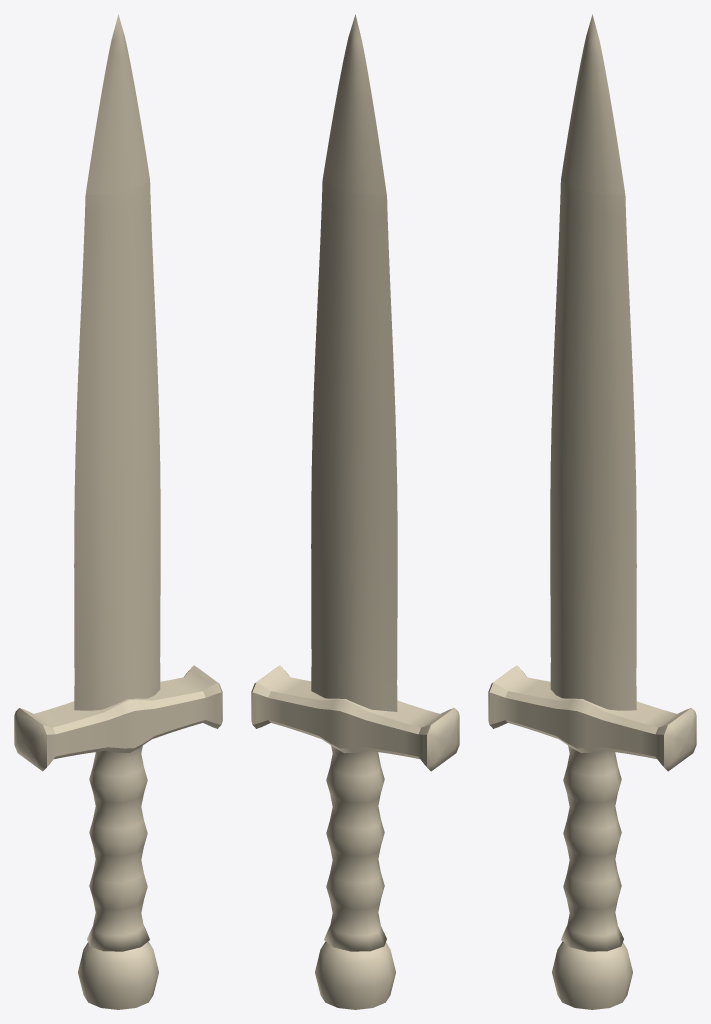
File: kasatha-spinal-sword.glb
The picture shows the model from 3 angles, left to right: view 1: azimuth 30°, elevation 25°; view 2: azimuth 150°, elevation 25°; view 3: azimuth 330°, elevation 25°; orthographic projection.
Visible parts, largest first — view 1: kasatha-spinal-sword; view 2: kasatha-spinal-sword; view 3: kasatha-spinal-sword.
Part boxes in pixels (box(x1,y1,x2,y2)): kasatha-spinal-sword: box(14, 14, 222, 1009); kasatha-spinal-sword: box(251, 14, 459, 1009); kasatha-spinal-sword: box(488, 14, 696, 1009).
Bounding box in the file's own units: 0.24 × 1.21 × 0.09.
